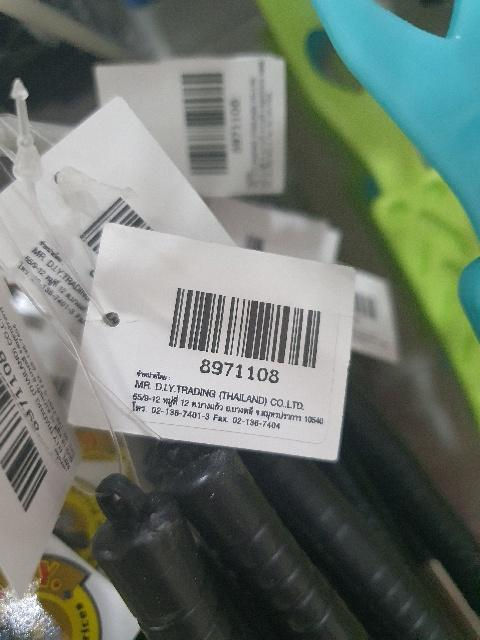Barcode: (160, 284, 323, 388), (183, 63, 246, 183)
